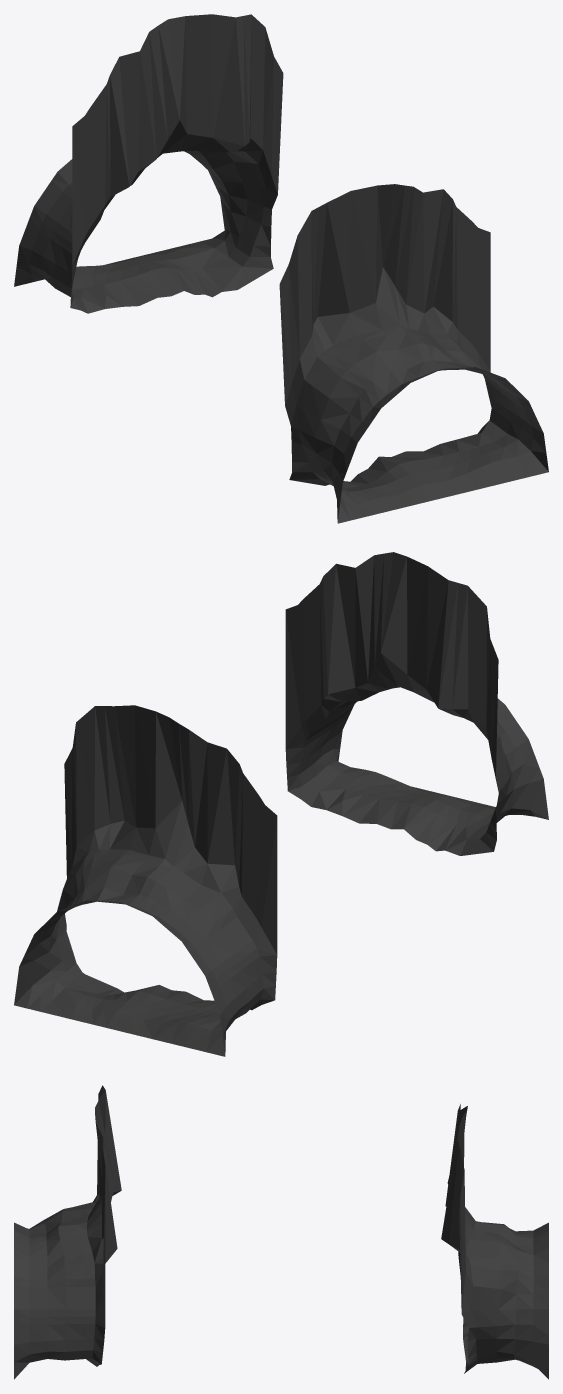
The model's file is Cave_9A_LOD_1.fbx.
3 views of the same model, one above another, from view 1: azimuth 30°, elevation 25°; view 2: azimuth 150°, elevation 25°; view 3: azimuth 270°, elevation 25° (orthographic). The views are drawn at different scales.
Visible parts, largest first — view 1: polySurface1225; view 2: polySurface1225; view 3: polySurface1225.
Part boxes in pixels (x1,y1,x2,y2): polySurface1225: (14,14,548,523); polySurface1225: (14,552,548,1056); polySurface1225: (14,1085,548,1379).
Bounding box in the file's own units: 8.56 × 10.78 × 21.9.
